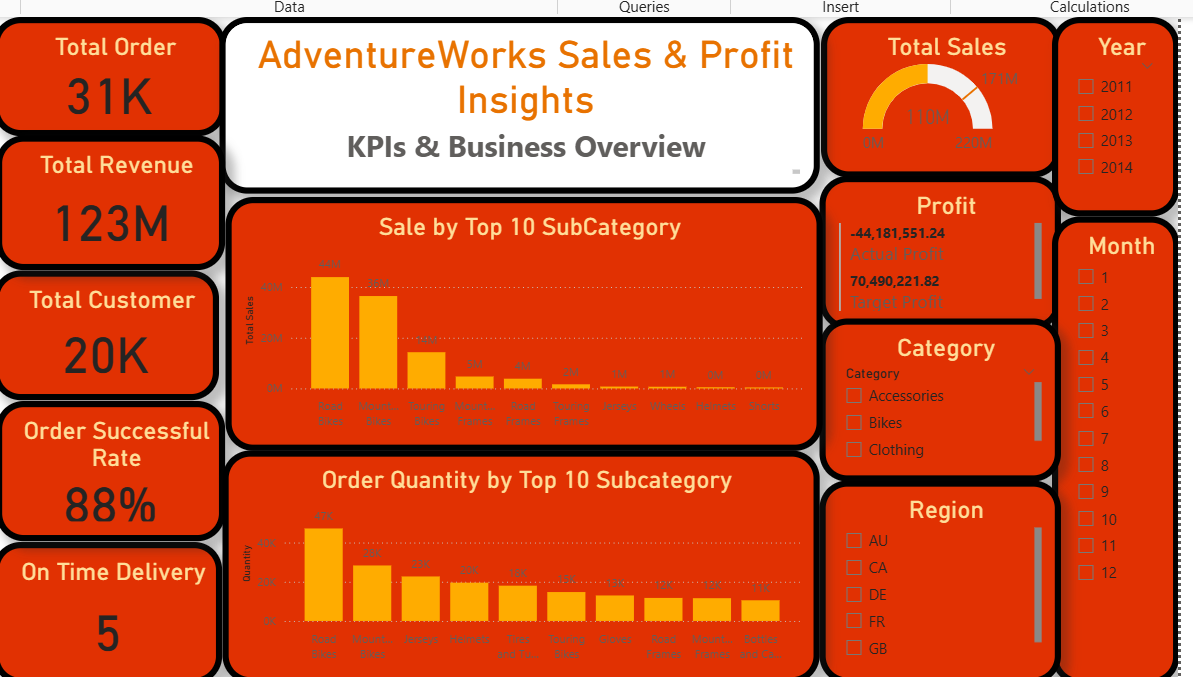

The page's visual inventory and layout, read from the dashboard file:
{"tool":"powerbi","page":{"name":"Page 1","canvas":[1280,720],"ordinal":0},"visuals":[{"type":"card","title":"Total Customer","fields":{"Values":["Customer1.Total Customer"]},"box":[763.5,0,251.3,153.1],"z":0},{"type":"card","title":"Total Revenue","fields":{"Values":["Customer1.Total Revenue"]},"box":[1012.9,289.1,266.5,139.8],"z":1000},{"type":"card","title":"Total Order","fields":{"Values":["Customer1.Total Order"]},"box":[1015.3,0,263.9,139.3],"z":2000},{"type":"card","title":"Successful Orders","fields":{"Values":["Sum(SalesOrderHeader1.OnlineOrderFlag)"]},"box":[1015.3,139.3,263.9,150.6],"z":3000},{"type":"card","title":"Profit","fields":{"Values":["Sum(SalesOrderDetail1.Profit)"]},"box":[1014.8,429,264.6,151.2],"z":4000},{"type":"card","title":" On Time Delivery","fields":{"Values":["Avg(SalesOrderHeader1.Delivery Days)"]},"box":[1012.9,570.7,264.6,149.3],"z":5000},{"type":"slicer","title":"Year","fields":{"Values":["Calender.Date.Variation.Date Hierarchy.Year"]},"box":[0,0,121.4,215.4],"z":6000},{"type":"donutChart","title":"Sales by Category","fields":{"Category":["ProductCategory2.Name"],"Y":["Sum(SalesOrderDetail1.LineTotal)"]},"box":[113.4,153.1,415.8,302.4],"z":7000},{"type":"waterfallChart","title":" Profit by Category","fields":{"Y":["Sum(SalesOrderDetail1.Profit)"],"Category":["ProductCategory2.Name"]},"box":[113.4,429,406.3,291],"z":8000},{"type":"barChart","title":"Top 5 Highest Sale  Subcategory","fields":{"Category":["ProductSubcategory1.Name"],"Y":["Sum(SalesOrderDetail1.LineTotal)"]},"box":[517.8,153.1,489.5,302.4],"z":9000},{"type":"slicer","title":"Month","fields":{"Values":["Calender.Month"]},"box":[0,215.4,113.3,505.2],"z":10000},{"type":"map","title":"Revenue by Country","fields":{"Category":["SalesTerritory2.Country"],"Size":["Sum(SalesOrderHeader1.TotalDue)"]},"box":[517.8,455.4,497,264.6],"z":11000},{"type":"textbox","title":"AdventureWorks Sales & Profit Insights","box":[120.9,0,646.3,153.1],"z":12000}]}

Visuals, with their boxes on the page's 1280x720 design canvas (x1, y1, x2, y2). These are canvas units, not pixel positions in the 1193x677 screenshot, which may show the page scaled, cropped or inside an application window:
"Total Customer" card: bbox=(764, 0, 1015, 153)
"Total Revenue" card: bbox=(1013, 289, 1279, 429)
"Total Order" card: bbox=(1015, 0, 1279, 139)
"Successful Orders" card: bbox=(1015, 139, 1279, 290)
"Profit" card: bbox=(1015, 429, 1279, 580)
" On Time Delivery" card: bbox=(1013, 571, 1278, 720)
"Year" slicer: bbox=(0, 0, 121, 215)
"Sales by Category" donutChart: bbox=(113, 153, 529, 456)
" Profit by Category" waterfallChart: bbox=(113, 429, 520, 720)
"Top 5 Highest Sale  Subcategory" barChart: bbox=(518, 153, 1007, 456)
"Month" slicer: bbox=(0, 215, 113, 721)
"Revenue by Country" map: bbox=(518, 455, 1015, 720)
"AdventureWorks Sales & Profit Insights" textbox: bbox=(121, 0, 767, 153)
